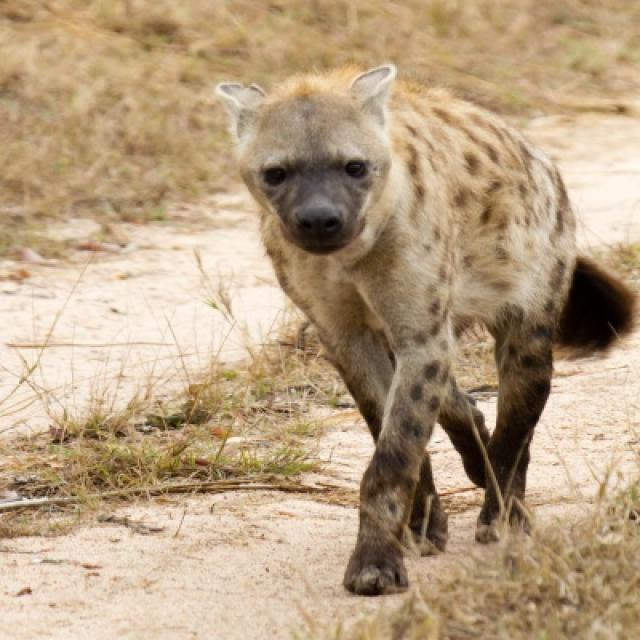hyena: (216, 66, 634, 594)
